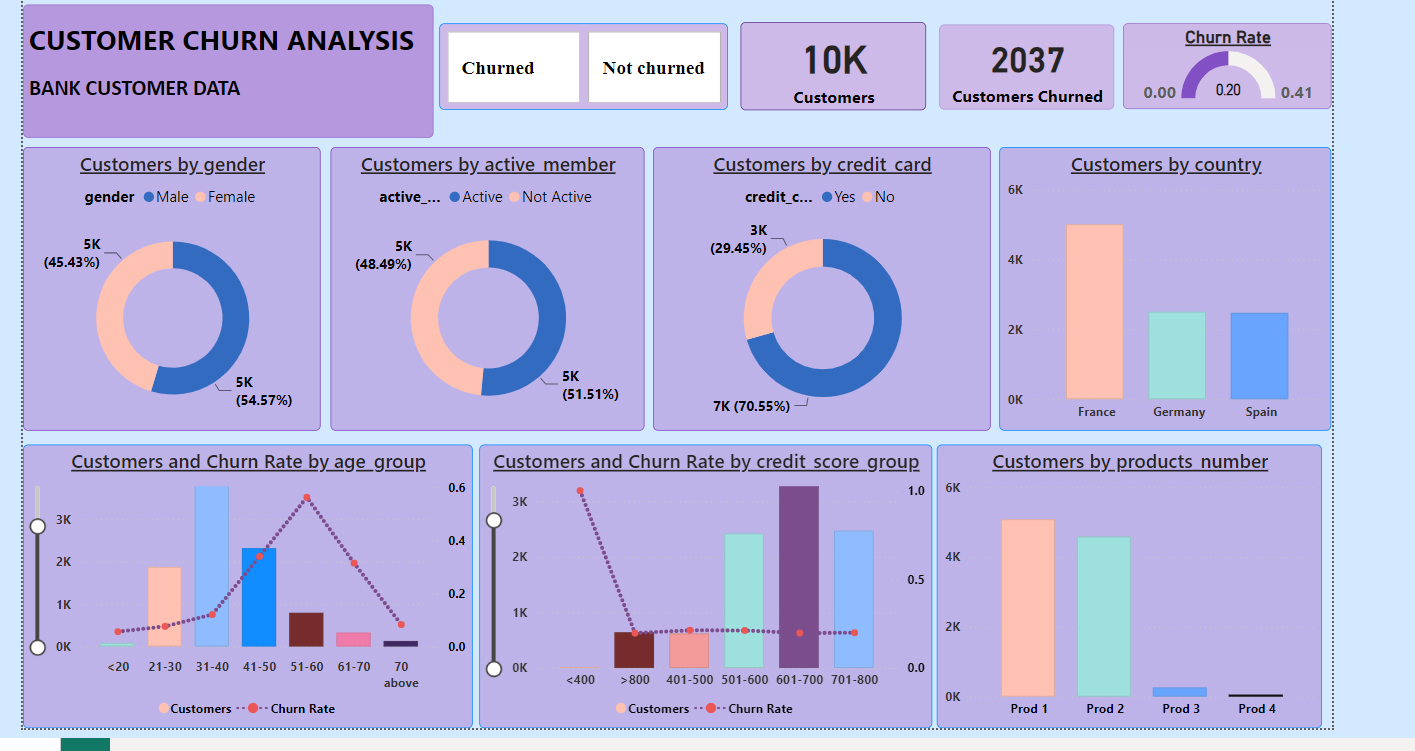

This screenshot's page, from the dashboard's own definition file:
{"tool":"powerbi","page":{"name":"Page 1","canvas":[1280,720],"ordinal":0},"visuals":[{"type":"card","fields":{"Values":["customer_churn_data.Customers"]},"box":[701.5,29.2,181.2,86.2],"z":0},{"type":"card","fields":{"Values":["customer_churn_data.Customers Churned"]},"box":[895.9,32.2,171,83.3],"z":1000},{"type":"gauge","fields":{"Y":["customer_churn_data.Churn Rate"]},"box":[1076.1,30.6,204.2,84.4],"z":2000},{"type":"donutChart","fields":{"Category":["customer_churn_data.gender"],"Y":["customer_churn_data.Customers"]},"box":[0,151.6,291,277.6],"z":3000},{"type":"donutChart","fields":{"Category":["customer_churn_data.active_member"],"Y":["customer_churn_data.Customers"]},"box":[300.8,151.6,306.9,277.6],"z":4000},{"type":"donutChart","fields":{"Category":["customer_churn_data.credit_card"],"Y":["customer_churn_data.Customers"]},"box":[616.3,151.6,330.2,277.6],"z":5000},{"type":"clusteredColumnChart","fields":{"Category":["customer_churn_data.country"],"Y":["customer_churn_data.Customers"]},"box":[955.2,151.8,325.1,277.8],"z":6000},{"type":"clusteredColumnChart","fields":{"Category":["customer_churn_data.products_number"],"Y":["customer_churn_data.Customers"]},"box":[894.5,442.8,377.1,277.7],"z":7000},{"type":"advancedSlicerVisual","fields":{"Values":["customer_churn_data.churn"]},"box":[407.8,30.7,282.1,84.8],"z":8000},{"type":"lineStackedColumnComboChart","fields":{"Category":["Age_group.age_group"],"Y":["customer_churn_data.Customers"],"Y2":["customer_churn_data.Churn Rate"]},"box":[0,442.8,439.9,277.7],"z":9000},{"type":"lineStackedColumnComboChart","fields":{"Y":["customer_churn_data.Customers"],"Y2":["customer_churn_data.Churn Rate"],"Category":["credit_score_group.credit_score_group"]},"box":[445.8,442.3,442.8,277.7],"z":10000},{"type":"textbox","box":[0,11.7,401.9,130.1],"z":12000}]}

Visuals, with their boxes in screenshot pixels (x1, y1, x2, y2):
card - customer_churn_data.Customers: (737,19,924,108)
card - customer_churn_data.Customers Churned: (937,22,1113,108)
gauge - customer_churn_data.Churn Rate: (1123,20,1333,107)
donutChart - customer_churn_data.gender x customer_churn_data.Customers: (15,145,314,431)
donutChart - customer_churn_data.active_member x customer_churn_data.Customers: (324,145,640,431)
donutChart - customer_churn_data.credit_card x customer_churn_data.Customers: (649,145,989,431)
clusteredColumnChart - customer_churn_data.country x customer_churn_data.Customers: (998,145,1333,431)
clusteredColumnChart - customer_churn_data.products_number x customer_churn_data.Customers: (936,445,1324,731)
advancedSlicerVisual - customer_churn_data.churn: (435,21,725,108)
lineStackedColumnComboChart - Age_group.age_group x customer_churn_data.Customers: (15,445,468,731)
lineStackedColumnComboChart - customer_churn_data.Customers x customer_churn_data.Churn Rate: (474,444,930,730)
textbox: (15,1,429,135)
